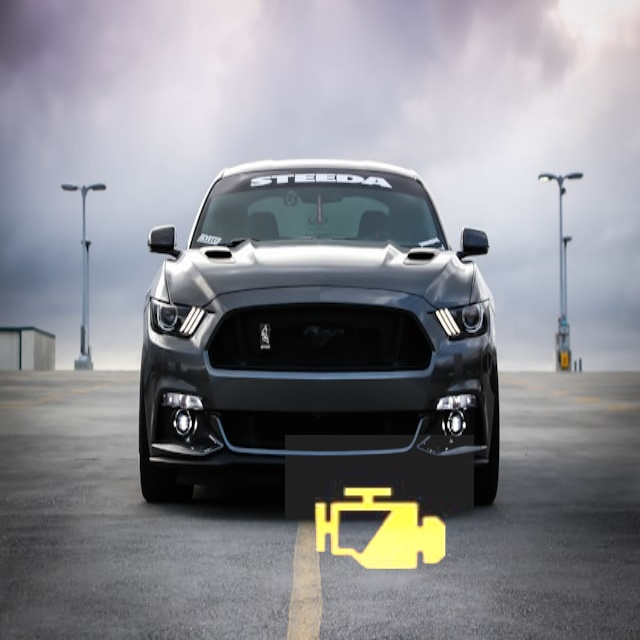symbol: (285, 435, 474, 624)
